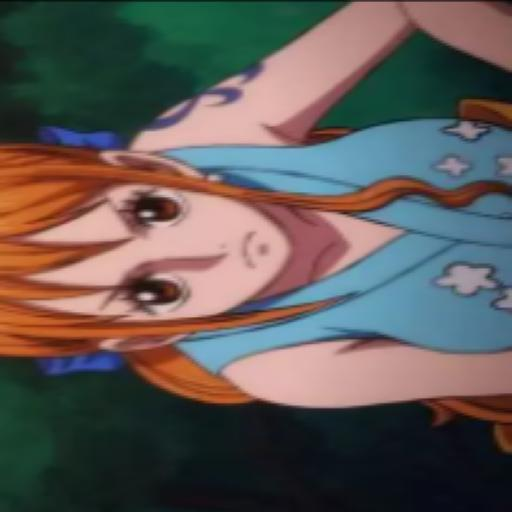Nami: (3, 0, 512, 414)
